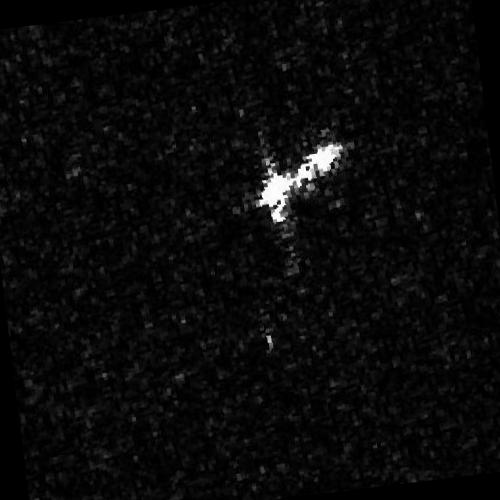ship: (250, 140, 347, 211)
